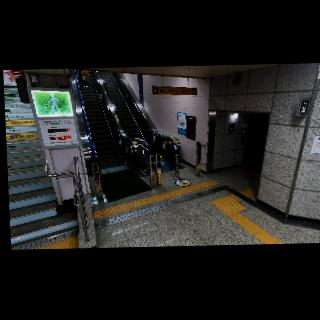anomaly: (132, 134, 157, 156)
